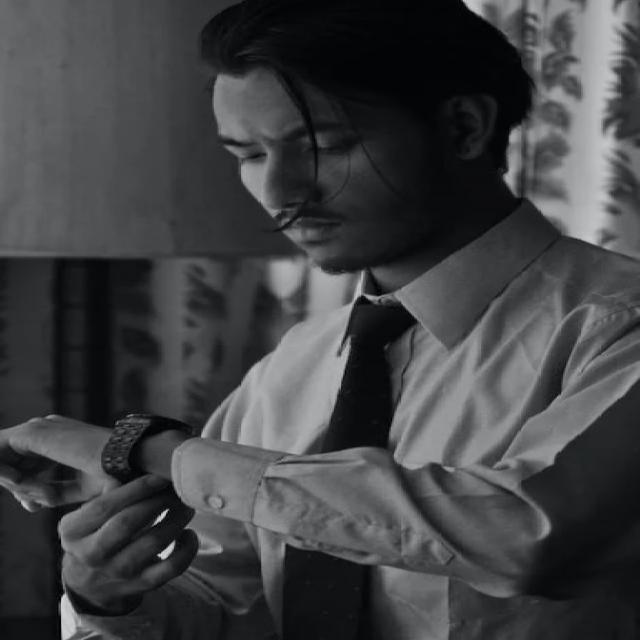Watch: (94, 410, 198, 480)
